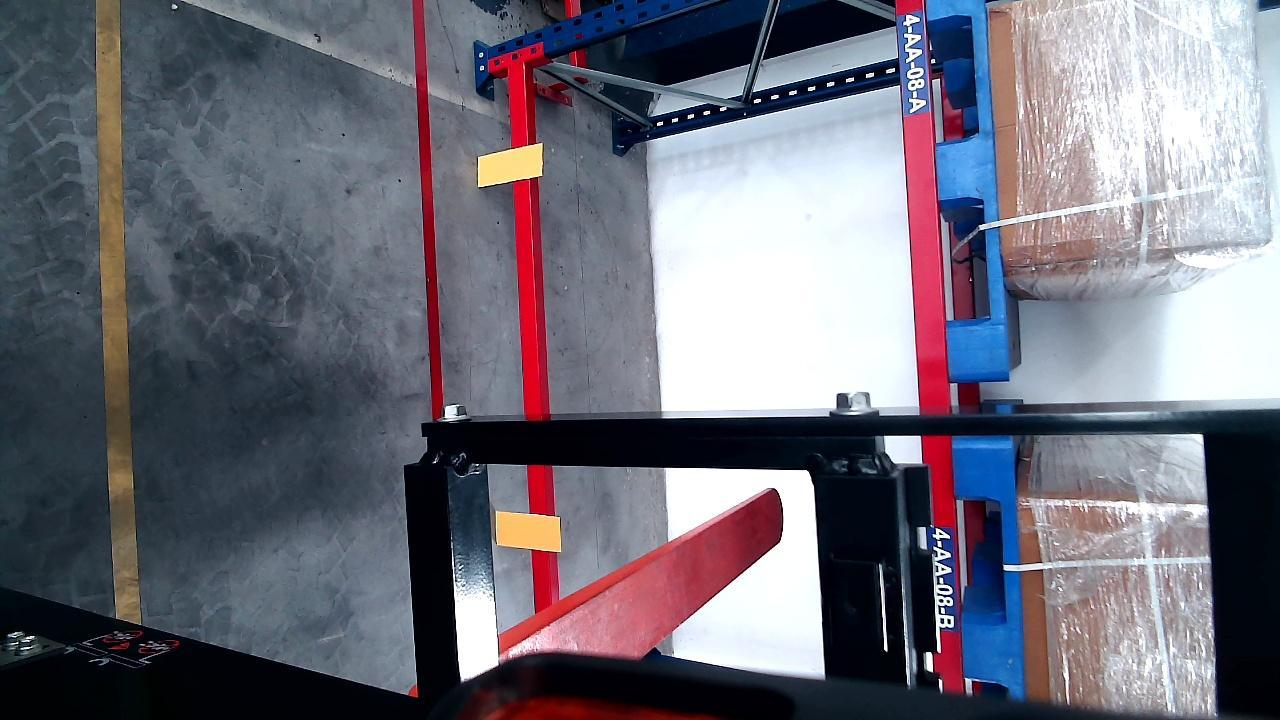red_line: (414, 0, 446, 426)
yellow_line: (95, 0, 140, 626)
